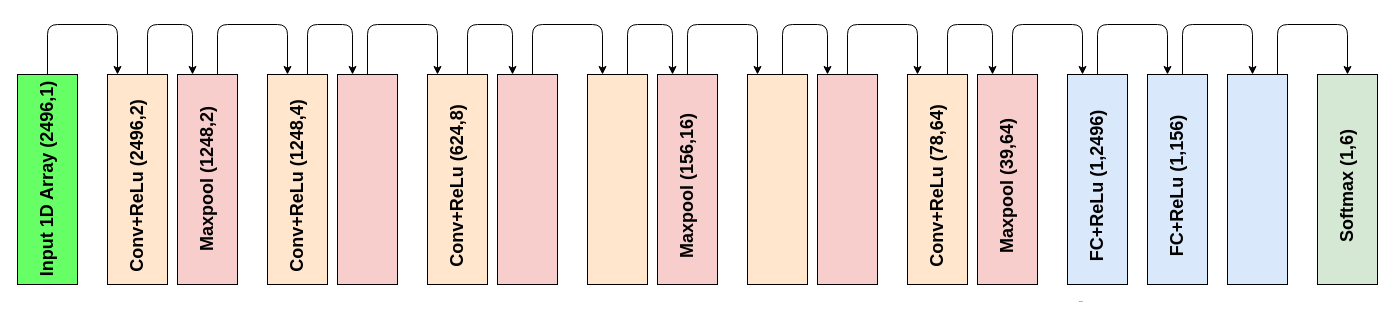
The diagram is 1395 pixels wide and 332 high, and some of its shapes have lost their labels. Each missing label, with the box of its shape:
Conv+ReLu (156,32): (746, 74, 808, 284)
Conv+ReLu (312,16): (586, 74, 648, 284)
FC+ReLu (1,18): (1226, 74, 1288, 284)
Maxpool (312,8): (496, 74, 558, 284)
Maxpool (624,4): (336, 74, 398, 284)
Maxpool (78,32): (816, 74, 878, 284)
